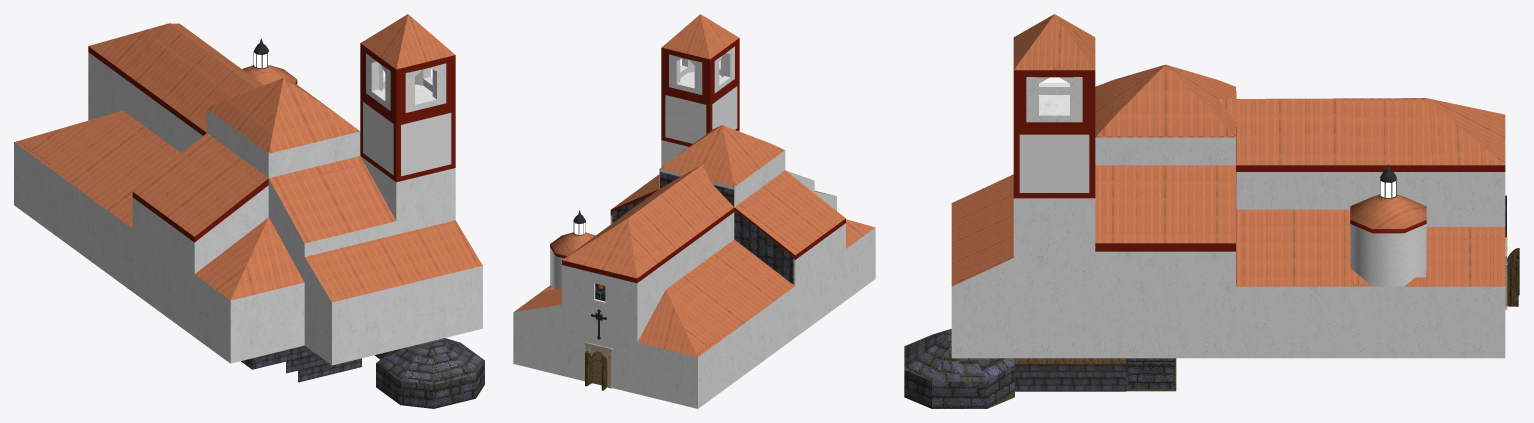
The model's file is IglesiaV0.9.fbx.
The picture shows the model from 3 angles, left to right: view 1: azimuth 30°, elevation 25°; view 2: azimuth 150°, elevation 25°; view 3: azimuth 270°, elevation 25°; orthographic projection. The views are drawn at different scales.
Parts seen in each view (by area): view 1: ParedesIglesia.003, Tejado, SueloPasillo.018, Plano.016, Círculo.001; view 2: ParedesIglesia.003, Tejado, InteriorIglesia, Círculo.001, Marco.002; view 3: ParedesIglesia.003, Tejado, Círculo.001, SueloPasillo.018, Plano.016, SueloPasillo.004, TechoPasillo.001, Marco.004.
Part boxes in pixels (left/top/right/bottom): ParedesIglesia.003: left=14, top=43, right=482, bottom=365; Tejado: left=14, top=14, right=482, bottom=302; SueloPasillo.018: left=376, top=338, right=484, bottom=408; Plano.016: left=241, top=345, right=389, bottom=382; Círculo.001: left=242, top=38, right=297, bottom=85; ParedesIglesia.003: left=513, top=38, right=875, bottom=408; Tejado: left=514, top=14, right=874, bottom=356; InteriorIglesia: left=612, top=172, right=793, bottom=284; Círculo.001: left=550, top=210, right=595, bottom=289; Marco.002: left=584, top=342, right=612, bottom=388; ParedesIglesia.003: left=951, top=70, right=1505, bottom=358; Tejado: left=951, top=14, right=1505, bottom=286; Círculo.001: left=1350, top=164, right=1426, bottom=286; SueloPasillo.018: left=904, top=329, right=1014, bottom=408; Plano.016: left=1015, top=364, right=1126, bottom=391; SueloPasillo.004: left=1126, top=358, right=1174, bottom=388; TechoPasillo.001: left=1015, top=358, right=1126, bottom=364; Marco.004: left=1507, top=259, right=1518, bottom=306.
Bounding box in the file's own units: 2989 × 4272 × 6231.
